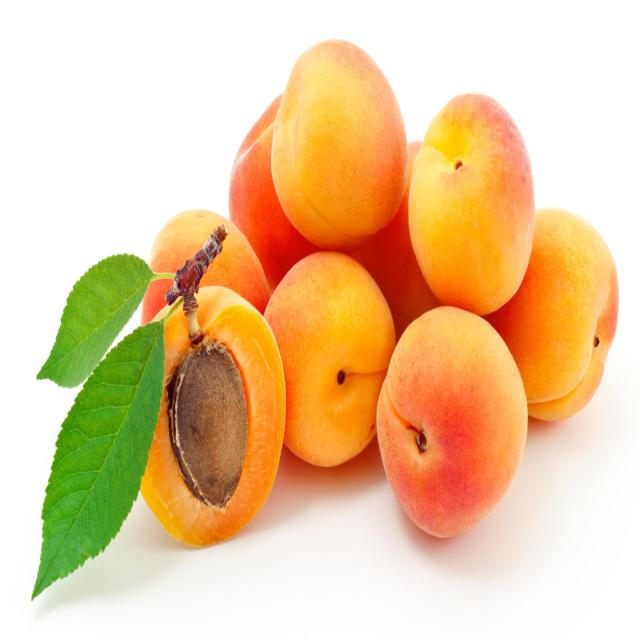Cekirdek: (168, 338, 247, 509)
Kayisi: (376, 308, 527, 536), (271, 41, 407, 249), (264, 254, 396, 466), (408, 94, 534, 315)
Yaprak: (33, 321, 164, 598), (38, 254, 153, 387)
